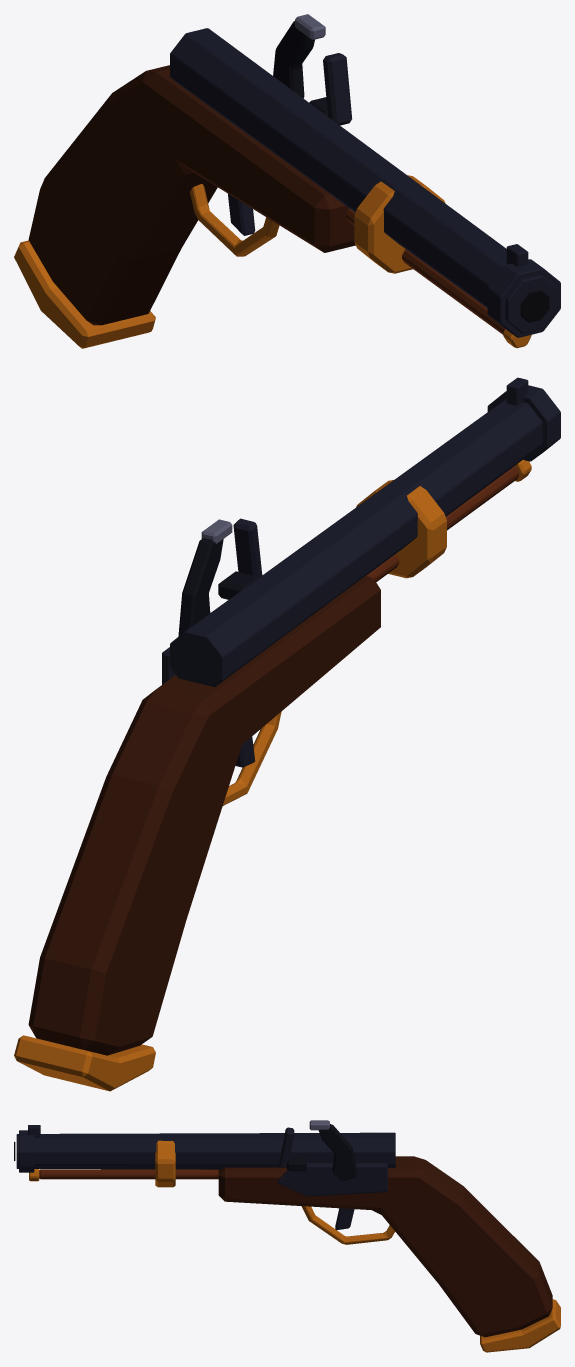
The model's file is myw_flintlock.obj.
3 renders of one model, top to bottom at view 1: azimuth 30°, elevation 25°; view 2: azimuth 150°, elevation 25°; view 3: azimuth 270°, elevation 25°, orthographic. The views are drawn at different scales.
Visible parts, largest first — view 1: Stock, Barrel, Brass, Hammer, Ramrod, Lock, Trigger; view 2: Stock, Barrel, Brass, Hammer, Lock, Ramrod; view 3: Stock, Barrel, Brass, Lock, Ramrod, Hammer, Trigger.
Part boxes in pixels (<box>): Stock: <box>28,65,355,325</box>; Barrel: <box>170,28,560,337</box>; Brass: <box>14,175,445,348</box>; Hammer: <box>273,14,325,98</box>; Ramrod: <box>346,208,531,348</box>; Lock: <box>309,53,352,125</box>; Trigger: <box>228,194,255,235</box>; Stock: <box>28,576,380,1055</box>; Barrel: <box>170,377,560,686</box>; Brass: <box>14,480,446,1091</box>; Hammer: <box>178,519,232,636</box>; Lock: <box>162,518,262,684</box>; Ramrod: <box>366,459,531,582</box>; Stock: <box>218,1156,552,1337</box>; Barrel: <box>14,1125,395,1172</box>; Brass: <box>155,1140,560,1352</box>; Lock: <box>278,1127,387,1196</box>; Ramrod: <box>29,1169,218,1181</box>; Hammer: <box>309,1120,357,1180</box>; Trigger: <box>335,1208,354,1230</box>.
Size of the model in its own units: 0.2516 by 1.02 by 2.16.
